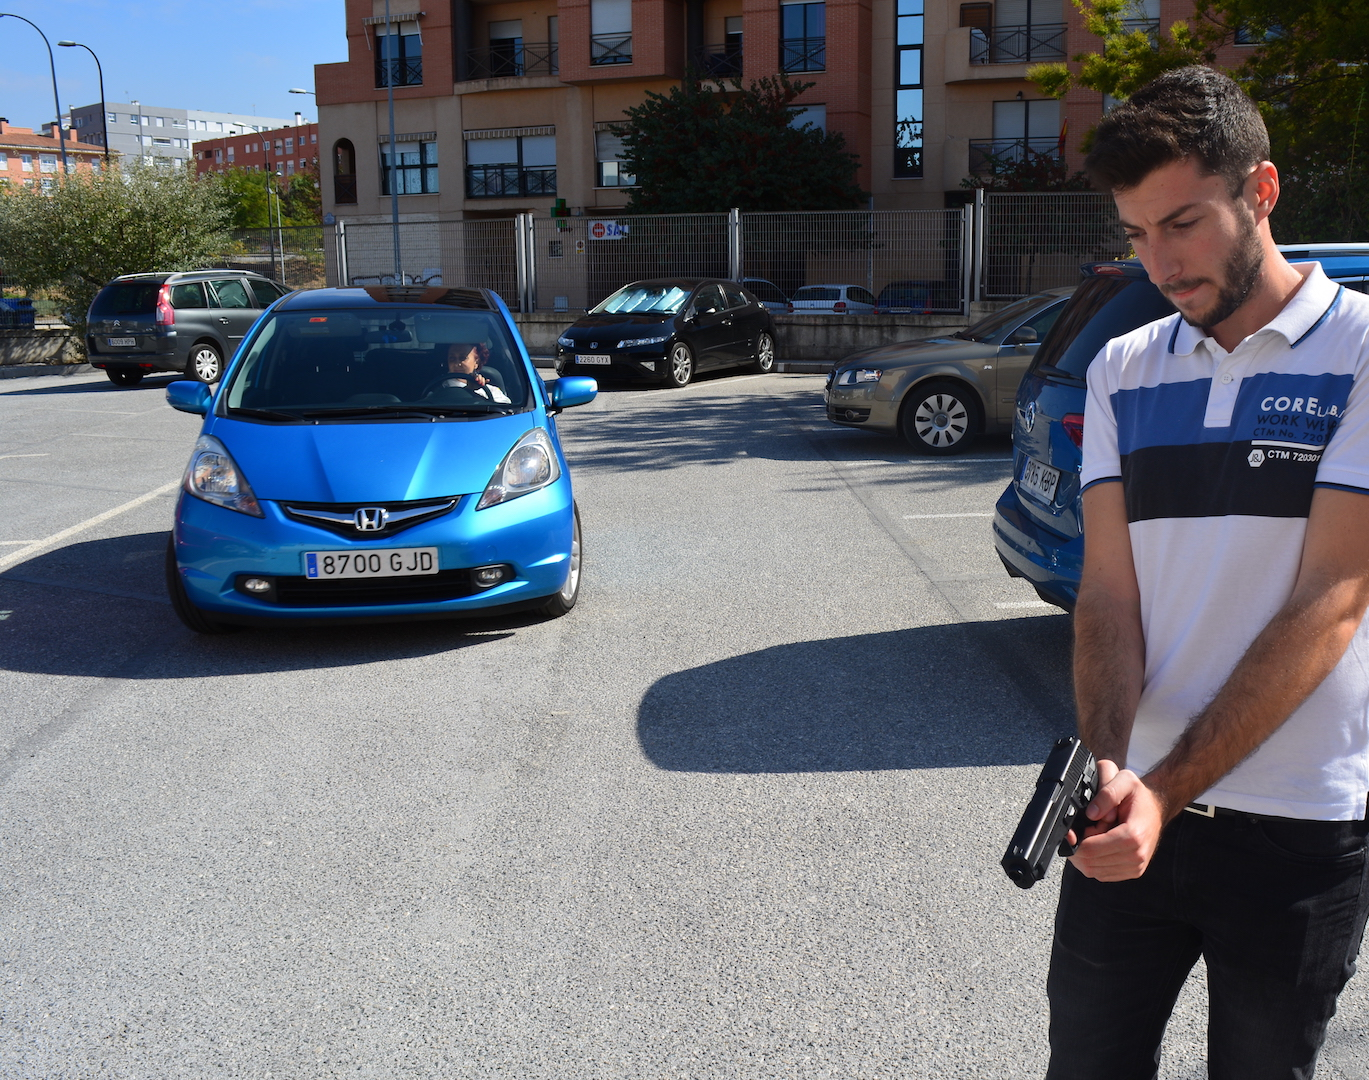pistol: (999, 732, 1101, 890)
